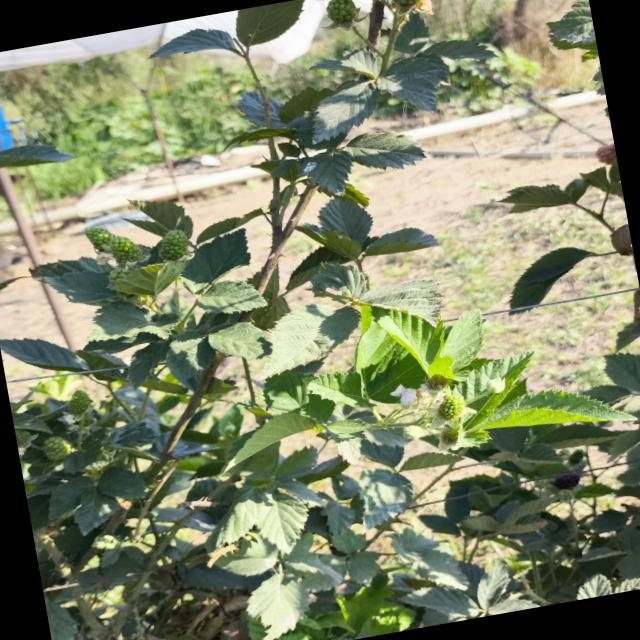boton: (403, 425, 424, 439), (486, 378, 505, 393)
verde: (326, 0, 365, 28), (159, 229, 189, 260), (109, 235, 141, 263), (436, 394, 465, 421), (85, 226, 113, 252), (68, 389, 92, 419), (43, 436, 71, 460)
